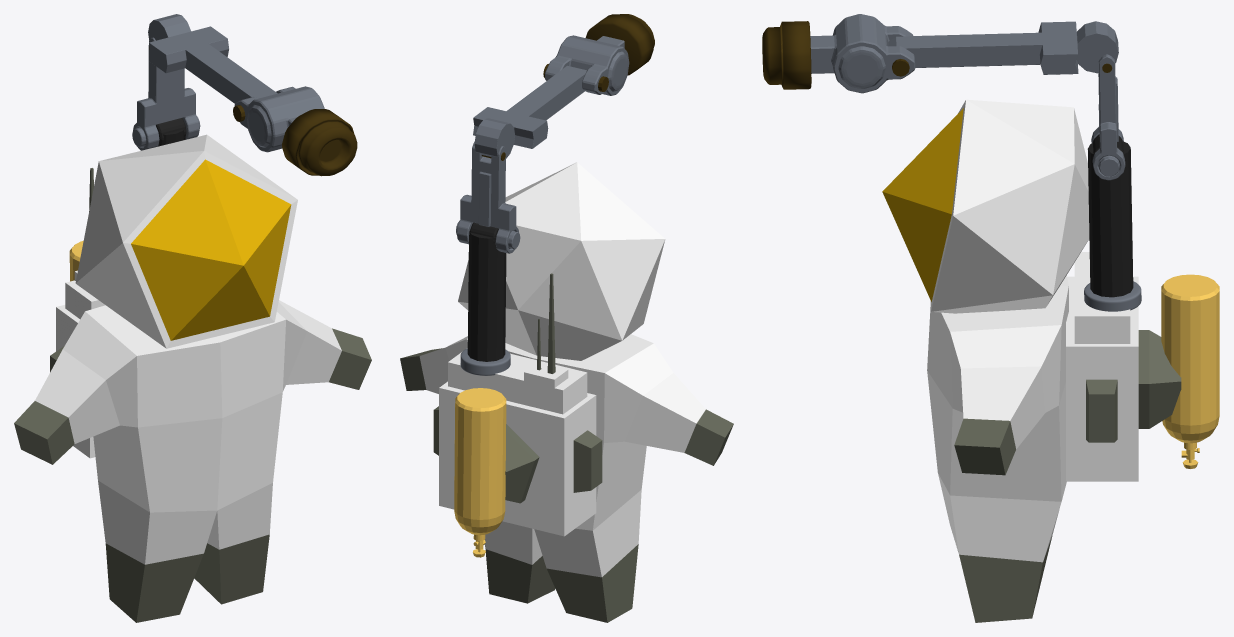
File: Astronauta con oxigeno y brazo.fbx
3 views of the same model, side by side, from view 1: azimuth 30°, elevation 25°; view 2: azimuth 150°, elevation 25°; view 3: azimuth 270°, elevation 25° (orthographic). The views are drawn at different scales.
Parts seen in each view (by area): view 1: Player, Cylinder.018, Cylinder.022, Cylinder.019, Cylinder.021; view 2: Player, oxycan, Cylinder.018, Cylinder.005, Cylinder.019, Cylinder.021, Cylinder.022, Cylinder.020; view 3: Player, oxycan, Cylinder.018, Cylinder.005, Cylinder.021, Cylinder.022, Cylinder.019, Cylinder.020.
Part boxes in pixels (x1,y1,x2,y2): Player: (14,134,371,622); Cylinder.018: (148,14,277,103); Cylinder.022: (282,109,357,176); Cylinder.019: (132,37,200,150); Cylinder.021: (234,86,324,152); Player: (400,162,733,622); oxycan: (454,388,506,557); Cylinder.018: (473,65,586,158); Cylinder.005: (467,231,506,361); Cylinder.019: (456,142,520,253); Cylinder.021: (545,35,629,95); Cylinder.022: (585,14,654,75); Cylinder.020: (460,348,510,375); Player: (882,99,1181,622); oxycan: (1161,274,1219,468); Cylinder.018: (888,21,1118,74); Cylinder.005: (1087,141,1133,297); Cylinder.021: (810,14,915,93); Cylinder.022: (762,21,811,89); Cylinder.019: (1091,54,1125,180); Cylinder.020: (1084,281,1141,311).
Bounding box in the file's own units: 363 × 545 × 386.
